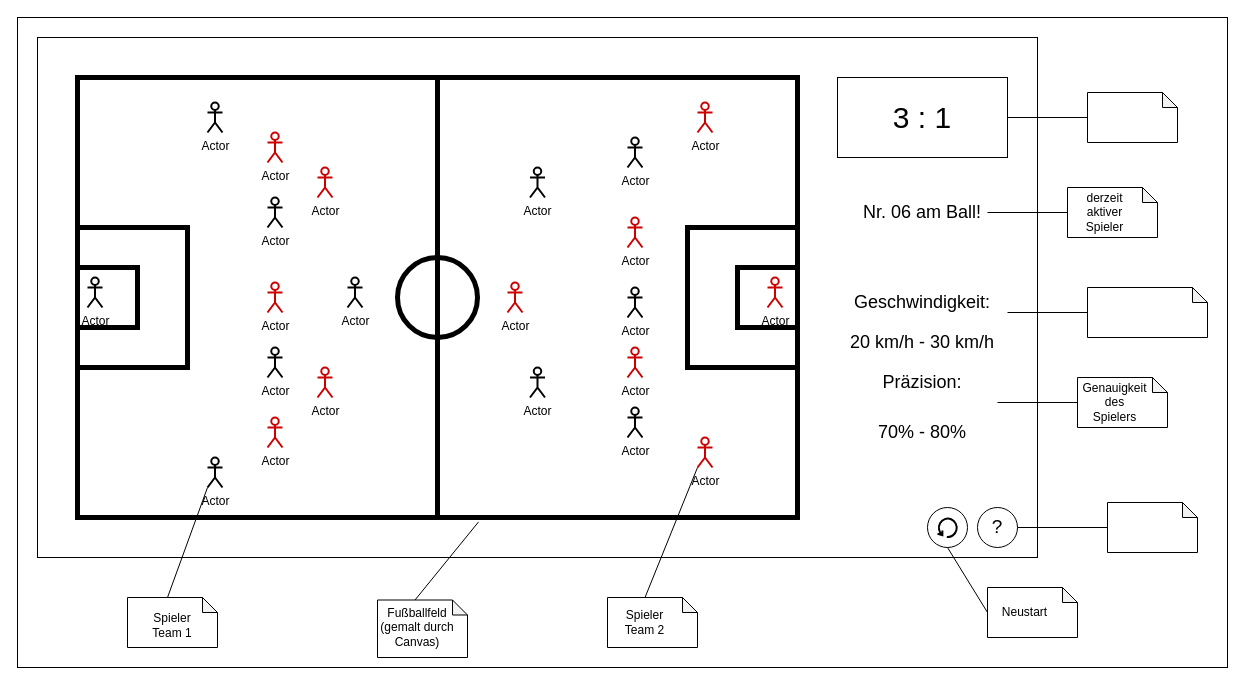
This 1245x685 diagram has some shape labels left out. Here are the shapes that lost their labels. From the top down, the centre of each, then its label:
At (x=1132, y=117): "Punktestand".
At (x=1147, y=312): "Geschwindigkeit des Spielers".
At (x=1152, y=527): "Hilfe".
